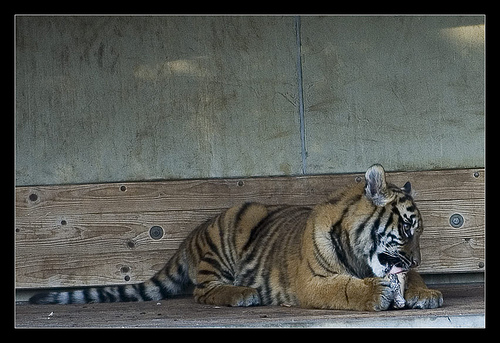Tigre: (86, 183, 446, 315)
